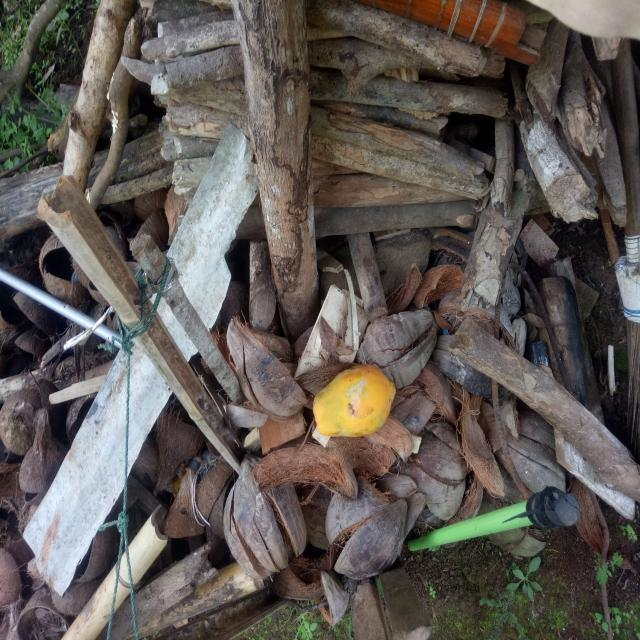Pepaya rippen: (310, 366, 398, 443)
